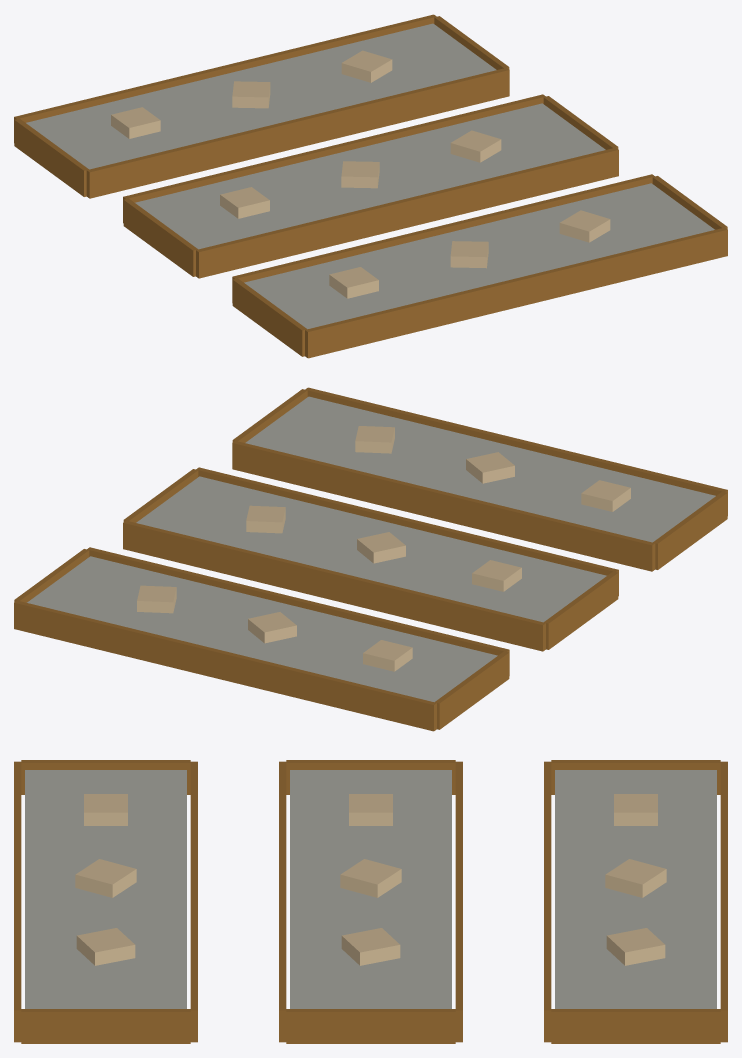
File: SM_Bancales_v4_Seco_LOD0.fbx
The picture shows the model from 3 angles, top to bottom: view 1: azimuth 30°, elevation 25°; view 2: azimuth 150°, elevation 25°; view 3: azimuth 270°, elevation 25°; orthographic projection. The views are drawn at different scales.
Visible parts, largest first — view 1: SM_vida_fuerte_v14_LOD0, Emision; view 2: SM_vida_fuerte_v14_LOD0, Emision; view 3: SM_vida_fuerte_v14_LOD0, Emision.
Part boxes in pixels (x1,y1,x2,y2): SM_vida_fuerte_v14_LOD0: (14, 14, 727, 358); Emision: (111, 50, 610, 298); SM_vida_fuerte_v14_LOD0: (14, 387, 727, 731); Emision: (137, 426, 630, 671); SM_vida_fuerte_v14_LOD0: (14, 760, 727, 1043); Emision: (75, 794, 666, 965).
Bounding box in the file's own units: 4.05 × 0.3 × 4.85.
